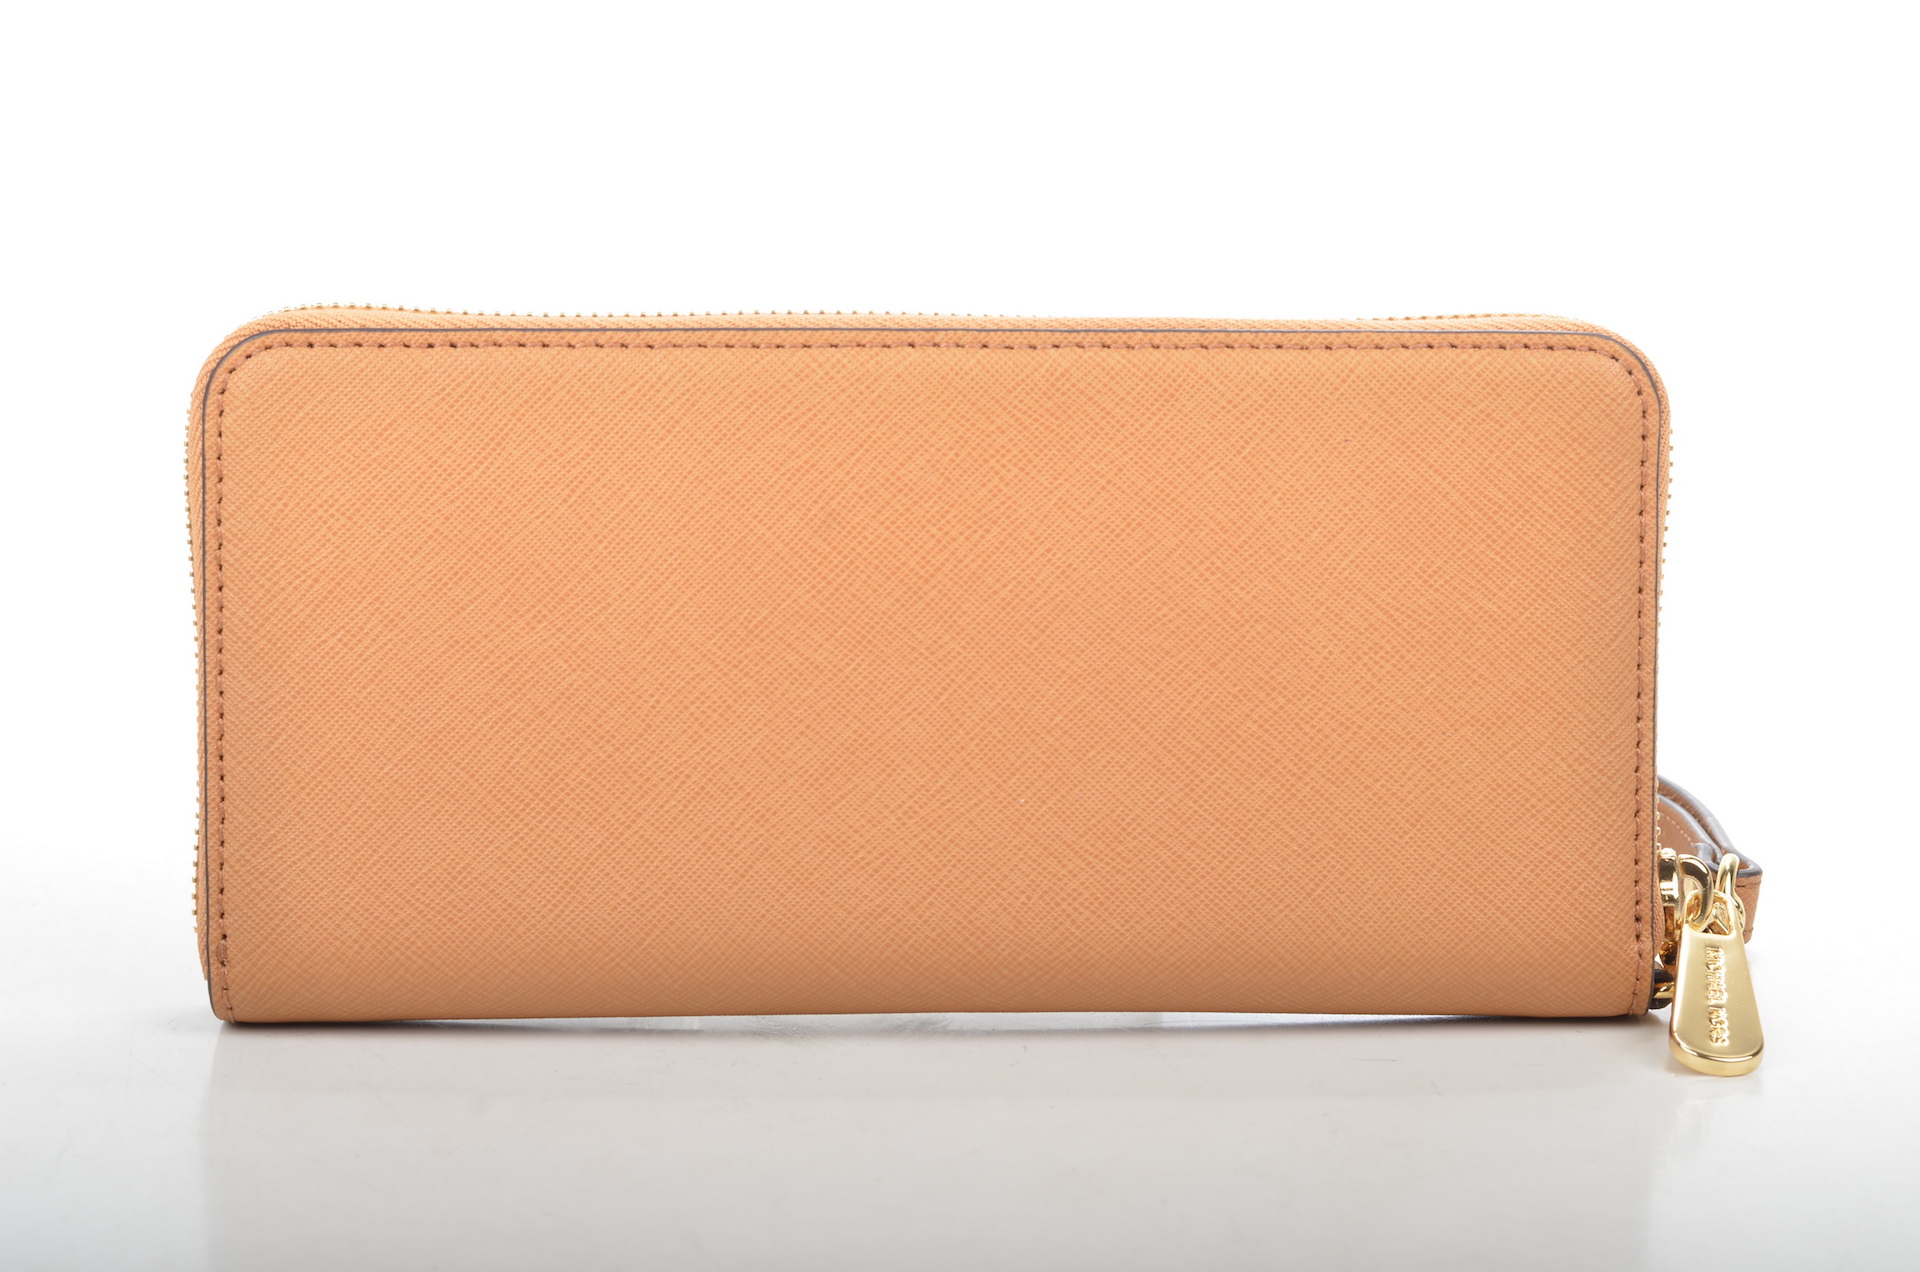monedero: (177, 298, 1713, 1041)
